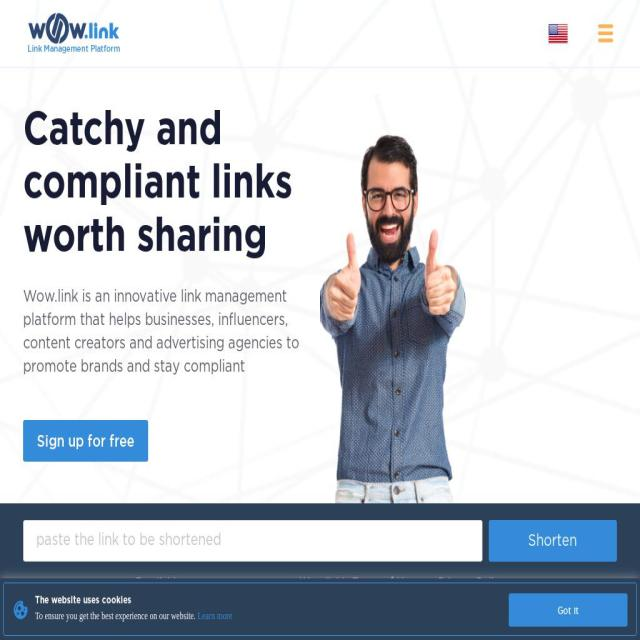button: (19, 0, 128, 67), (488, 520, 617, 562), (23, 420, 148, 462), (508, 593, 628, 627)
field: (23, 520, 483, 562)
heading: (23, 104, 320, 264)
link: (198, 610, 233, 622)
text: (320, 104, 617, 503), (23, 285, 320, 378), (23, 562, 617, 603), (0, 612, 640, 639), (35, 596, 627, 606), (19, 13, 128, 44), (35, 610, 197, 622), (590, 17, 621, 50), (27, 44, 120, 54), (528, 533, 578, 549)
